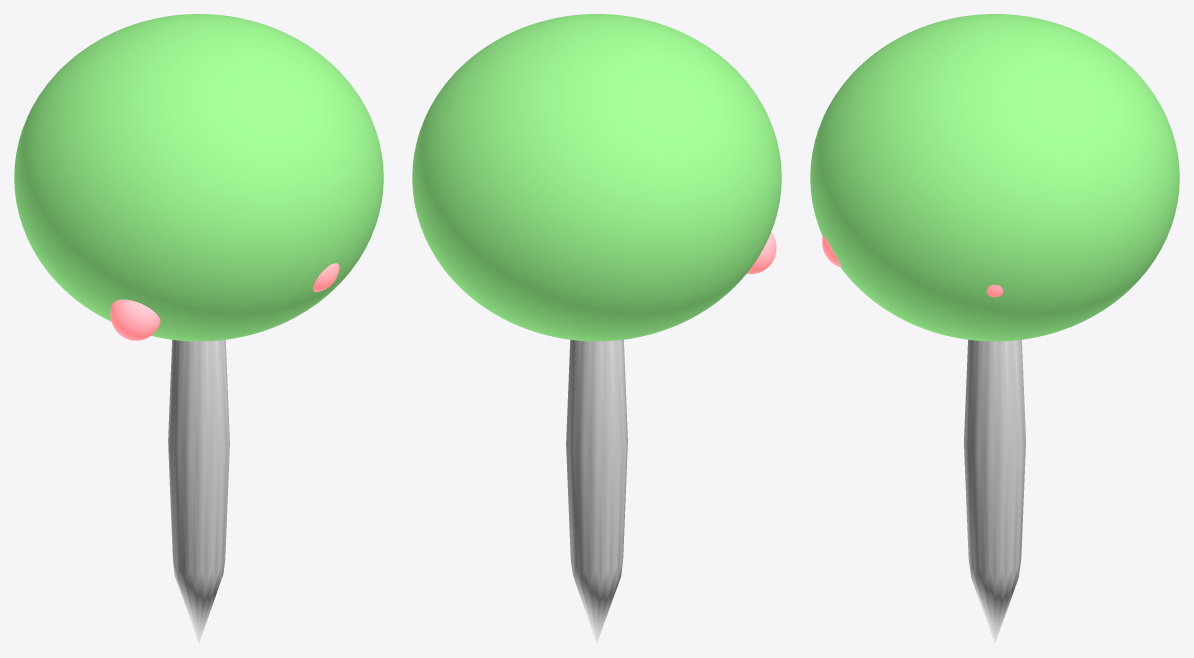
File: farm_tree_apple_v3.glb
3 renders of one model, left to right at view 1: azimuth 30°, elevation 25°; view 2: azimuth 150°, elevation 25°; view 3: azimuth 270°, elevation 25°, orthographic.
Parts seen in each view (by area): view 1: canopy, trunk, fruit_3; view 2: canopy, trunk, fruit_3; view 3: canopy, trunk.
Part boxes in pixels (x1=…): canopy: x1=14, y1=14, x2=383, y2=341; trunk: x1=168, y1=339, x2=229, y2=643; fruit_3: x1=110, y1=299, x2=160, y2=340; canopy: x1=412, y1=14, x2=781, y2=341; trunk: x1=566, y1=339, x2=627, y2=643; fruit_3: x1=746, y1=232, x2=776, y2=274; canopy: x1=810, y1=14, x2=1179, y2=341; trunk: x1=964, y1=339, x2=1025, y2=643.
Bounding box in the file's own units: 1.08 × 1.96 × 1.08.
